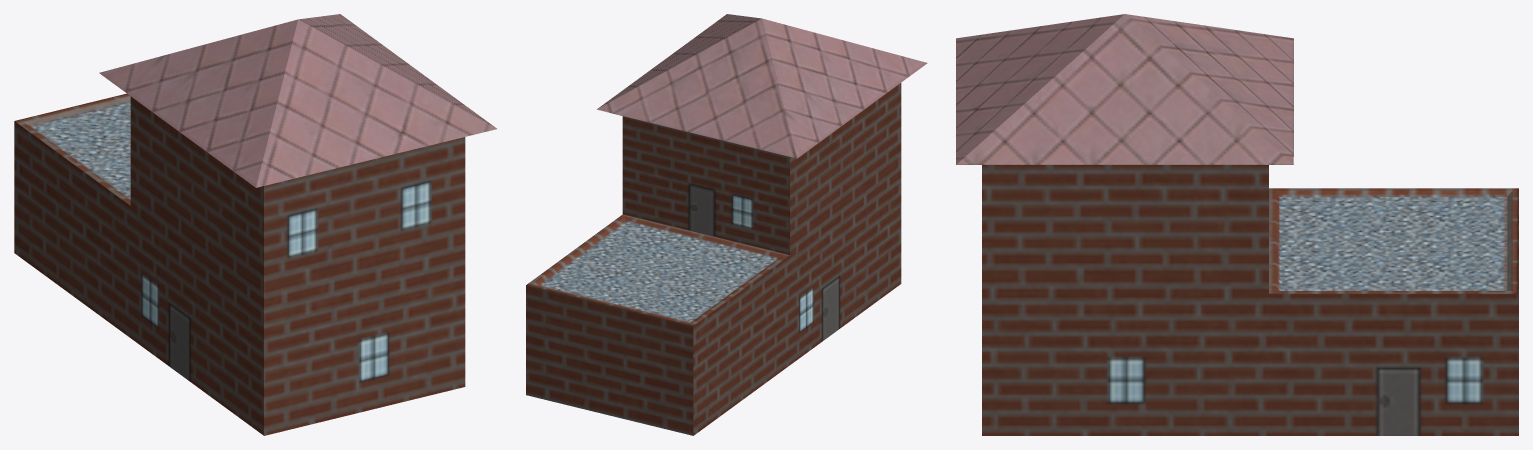
The model's file is Building V2.fbx.
3 renders of one model, left to right at view 1: azimuth 30°, elevation 25°; view 2: azimuth 150°, elevation 25°; view 3: azimuth 270°, elevation 25°, orthographic. The views are drawn at different scales.
Visible parts, largest first — view 1: Cube; view 2: Cube; view 3: Cube.
Boxes of the visible parts, <box> form: Cube: <box>14,14,496,435</box>; Cube: <box>526,14,927,435</box>; Cube: <box>956,14,1518,435</box>.
Size of the model in its own units: 240 by 326 by 450.
